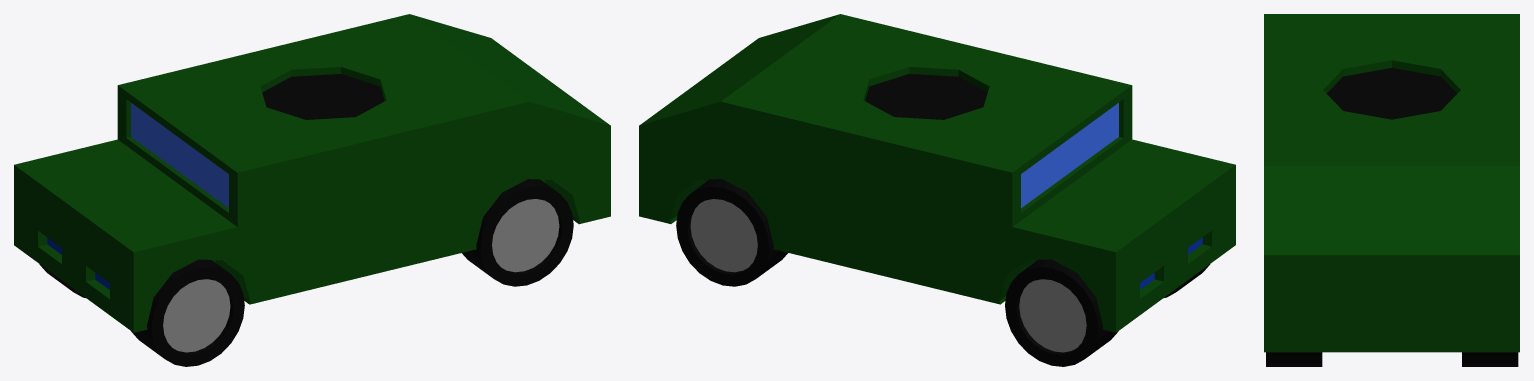
The model's file is Humve_WoodLand.fbx.
3 views of the same model, side by side, from view 1: azimuth 30°, elevation 25°; view 2: azimuth 150°, elevation 25°; view 3: azimuth 270°, elevation 25° (orthographic). The views are drawn at different scales.
Visible parts, largest first — view 1: Humvee_WoodLand; view 2: Humvee_WoodLand; view 3: Humvee_WoodLand.
Part boxes in pixels (left/top/right/bottom): Humvee_WoodLand: left=14, top=14, right=610, bottom=366; Humvee_WoodLand: left=639, top=14, right=1235, bottom=366; Humvee_WoodLand: left=1264, top=14, right=1519, bottom=366.
Size of the model in its own units: 920 by 339 by 400.
Materials: 1 (1 with a texture image).
